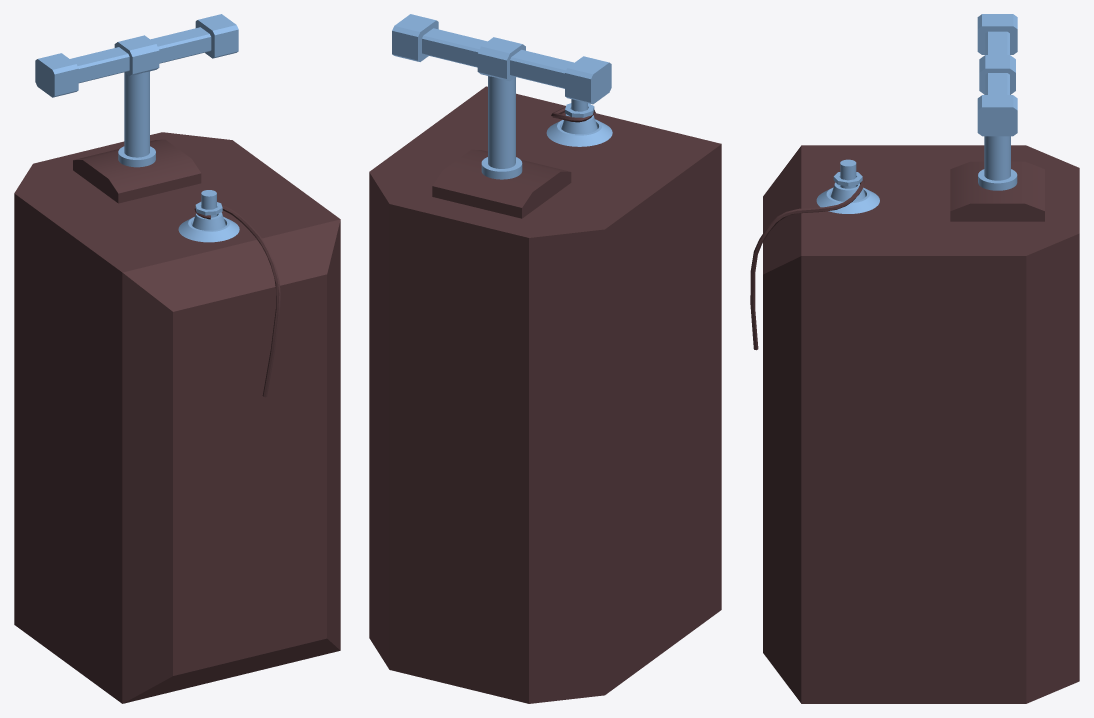
The model's file is Detonator.fbx.
The picture shows the model from 3 angles, left to right: view 1: azimuth 30°, elevation 25°; view 2: azimuth 150°, elevation 25°; view 3: azimuth 270°, elevation 25°; orthographic projection. The views are drawn at different scales.
Visible parts, largest first — view 1: Detonator; view 2: Detonator; view 3: Detonator.
Part boxes in pixels (x1,y1,x2,y2): Detonator: (14,14,340,703); Detonator: (369,14,721,703); Detonator: (750,14,1079,703).
Bounding box in the file's own units: 0.36 × 0.8925 × 0.4528.
